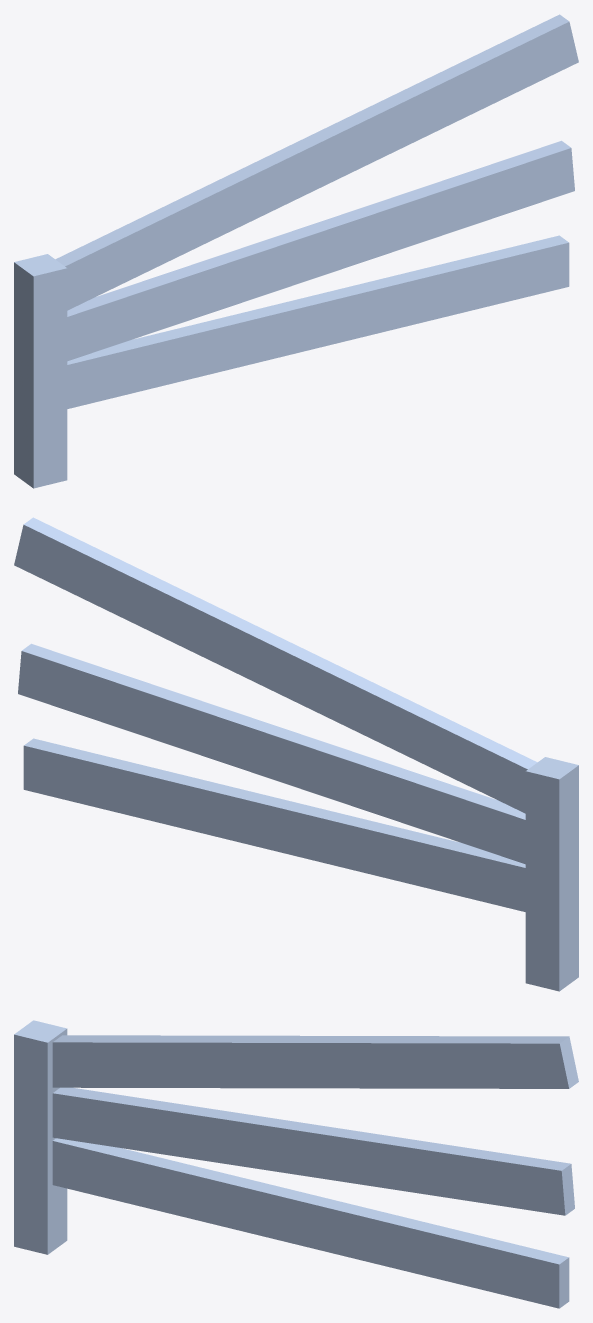
The model's file is Barn Fence End.glb.
3 renders of one model, top to bottom at view 1: azimuth 30°, elevation 25°; view 2: azimuth 150°, elevation 25°; view 3: azimuth 330°, elevation 25°, orthographic.
Parts seen in each view (by area): view 1: Fence post end; view 2: Fence post end; view 3: Fence post end.
Part boxes in pixels (bbox=[...]): Fence post end: bbox=[14, 14, 578, 488]; Fence post end: bbox=[14, 517, 578, 991]; Fence post end: bbox=[14, 1020, 578, 1308].
Size of the model in its own units: 3.26 by 1.87 by 0.2.
Materials: 1 (1 with a texture image).
